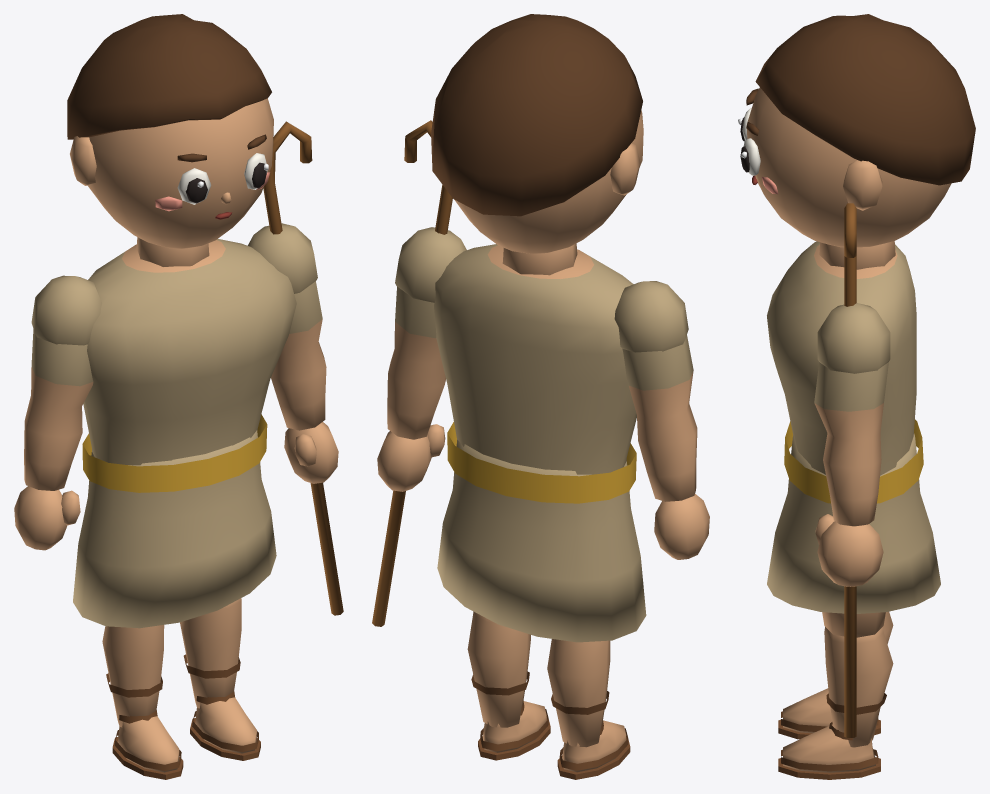
File: hirte.glb
3 renders of one model, left to right at view 1: azimuth 30°, elevation 25°; view 2: azimuth 150°, elevation 25°; view 3: azimuth 270°, elevation 25°, orthographic. The views are drawn at different scales.
Parts seen in each view (by area): view 1: rumpf, huefte, kopf, haare, armL, armR, knieL, knieR, itemR, augeL, augeR; view 2: rumpf, haare, huefte, armL, armR, kopf, knieL, knieR, itemR; view 3: haare, rumpf, armR, kopf, huefte, knieR, itemR, knieL, beinR, augeR.
Part boxes in pixels (x1,y1,x2,y2): rumpf: (82,239,296,492); huefte: (73,430,276,628); kopf: (70,98,273,266); haare: (67,14,271,139); armL: (14,275,101,550); armR: (247,223,338,483); knieL: (102,625,183,779); knieR: (180,598,260,760); itemR: (263,121,343,615); augeL: (177,168,211,204); augeR: (244,153,268,189); rumpf: (434,244,636,503); haare: (431,14,642,216); huefte: (437,440,646,642); armL: (614,281,709,559); armR: (377,227,466,491); kopf: (454,110,643,275); knieL: (547,639,630,779); knieR: (467,611,550,760); itemR: (372,120,452,626); haare: (755,14,975,185); rumpf: (767,241,923,503); armR: (814,303,890,586); kopf: (747,87,951,269); huefte: (767,433,940,613); knieR: (778,627,893,779); itemR: (844,203,856,737); knieL: (778,611,893,739); beinR: (822,612,885,637); augeR: (740,138,760,175).
Bounding box in the file's own units: 1.08 × 2.3 × 0.6822.
